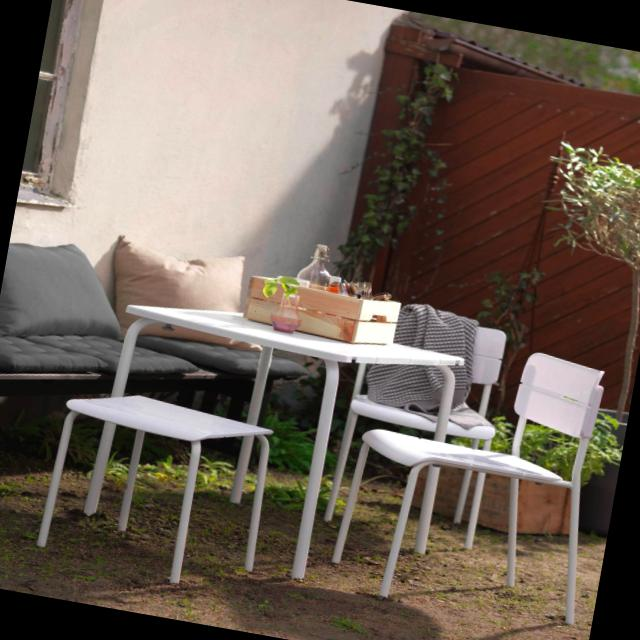obstacle: (25, 229, 631, 640)
